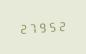five: (48, 19, 57, 32)
nine: (38, 20, 47, 33)
seven: (28, 21, 37, 34)
two: (18, 21, 27, 35), (58, 18, 67, 32)
